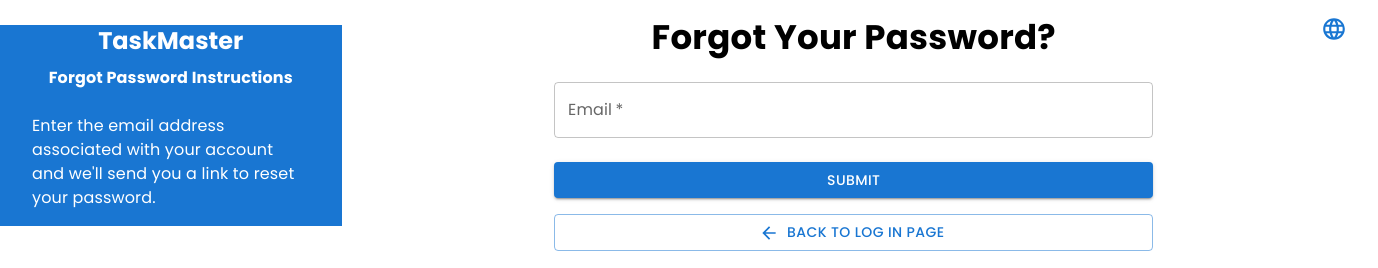
Test: LanguageSwitch component testing › Should change language to bosnian on forgotPassword page
This screenshot has width=1378, height=268.
What coordinates should you click on to do the following:
click the button named "LanguageBtn"
I would click on:
 (1334, 29)
Its box is x1=1302 y1=10 x2=1366 y2=48.
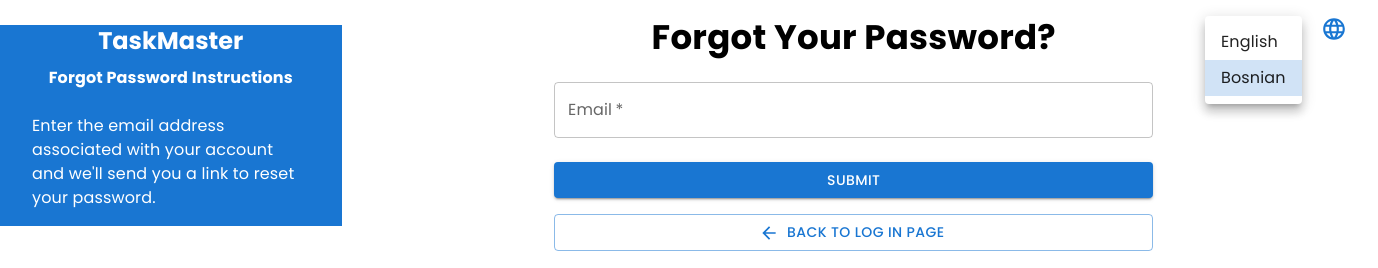
Now the menu item with aria-label "BosnianLngItem" is shown
What coordinates should you click on to do the following:
click the menu item with aria-label "BosnianLngItem"
I would click on:
 (1253, 78)
Its box is x1=1205 y1=60 x2=1302 y2=96.
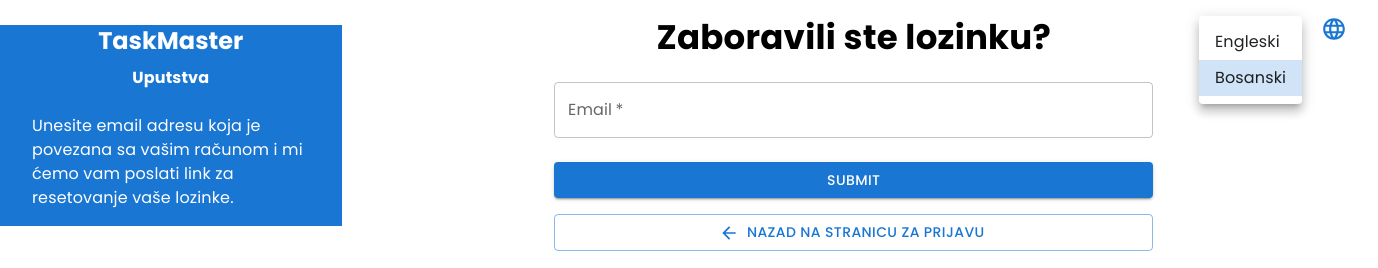
Now the heading "Zaboravili ste lozinku?" is shown, box x1=656 y1=13 x2=1051 y2=61
